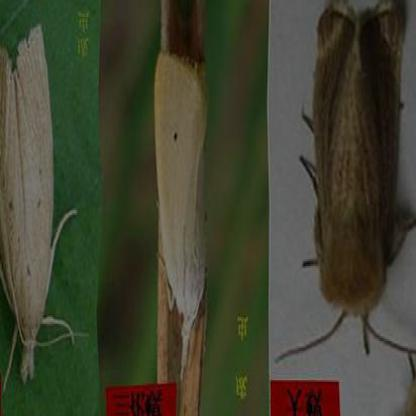stem-borer: (276, 0, 416, 367), (0, 20, 81, 396), (153, 47, 209, 379)
